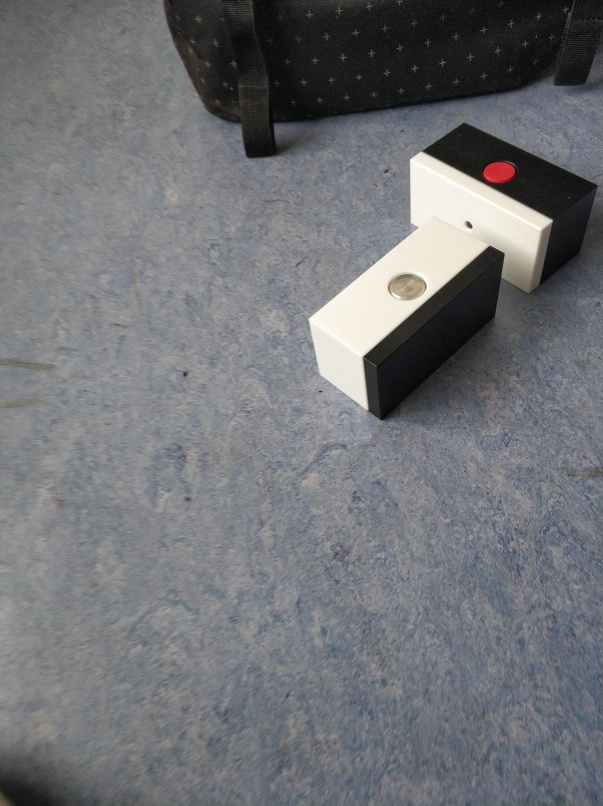black+white+silver: (304, 213, 508, 423)
white+black+red: (405, 120, 603, 300)
